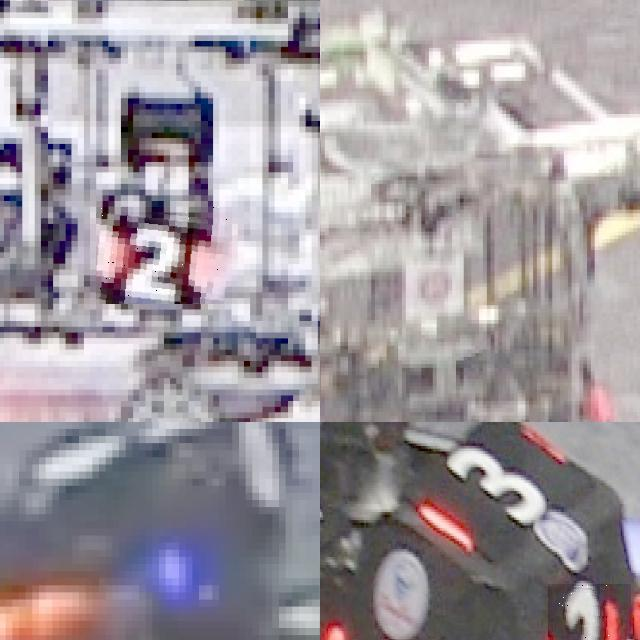R2: (96, 207, 232, 304)
R3: (548, 583, 630, 640)
